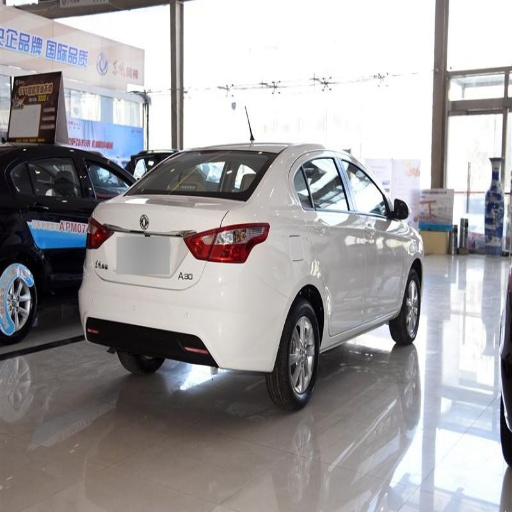back_bumper: (79, 251, 292, 368)
back_right_door: (300, 154, 370, 333)
tailgate: (96, 195, 207, 287)
